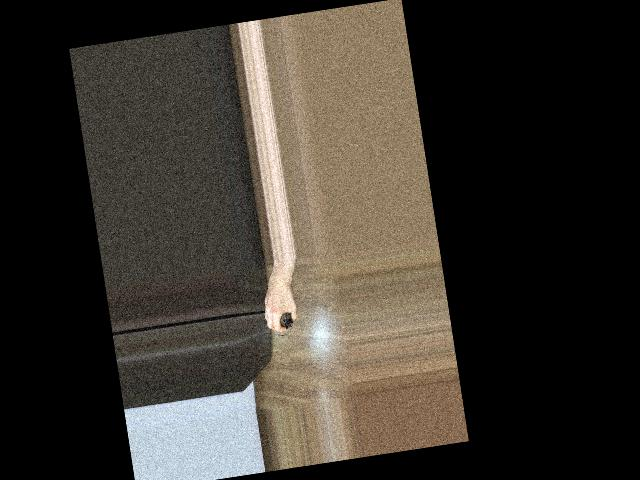beet: (275, 312, 295, 337)
